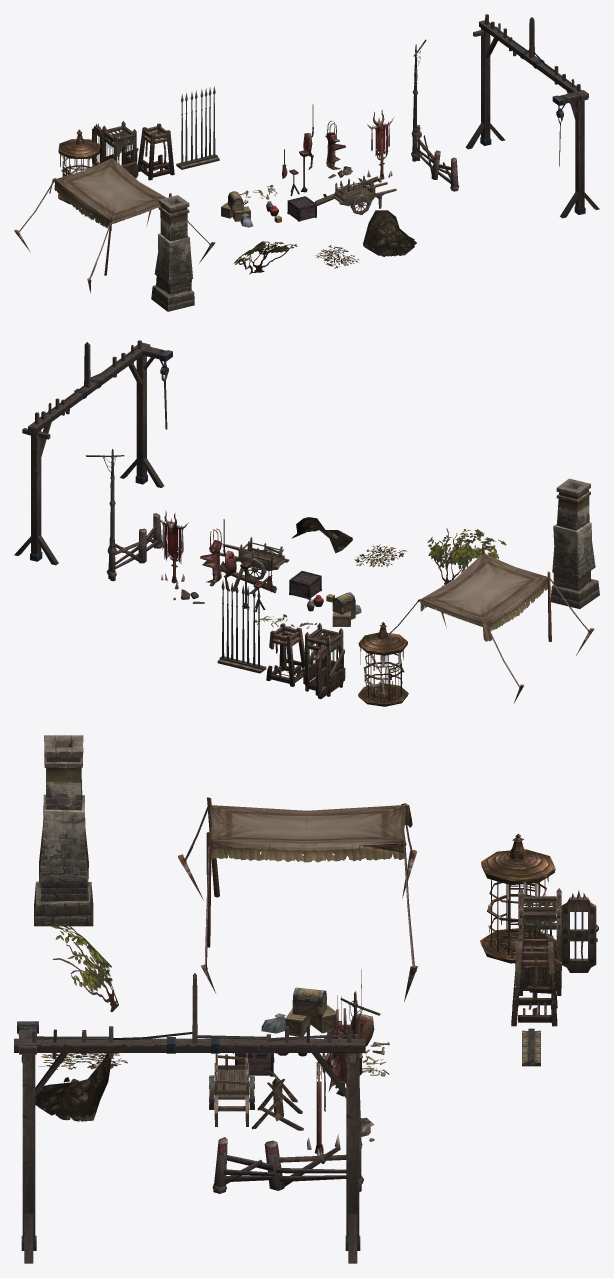
The model's file is 2_GLC_YWZW_01.FBX.
3 renders of one model, top to bottom at view 1: azimuth 30°, elevation 25°; view 2: azimuth 150°, elevation 25°; view 3: azimuth 270°, elevation 25°, orthographic. The views are drawn at different scales.
Parts seen in each view (by area): view 1: 2_GLC_JiaZi_01, 2_GLC_YEPZ_01, 2_GLC_YanTong_01, 2_GLC_SuiShiDui_02, 2_GLC_YWPJ_01, 2_GLC_Mao_01, 2_GLC_MuZhaLan_03, 2_GLC_MuLaoLong_01, 2_GLC_YuanTieLong_01, 2_DLC_MuLaoChe_01, 2_GLC_QiZhi_01, 2_GLC_YWGM_01 (+4 smaller); view 2: 2_GLC_YEPZ_01, 2_GLC_JiaZi_01, 2_GLC_YanTong_01, 2_GLC_YuanTieLong_01, 2_GLC_YWPJ_01, 2_GLC_MuZhaLan_03, 2_GLC_Mao_01, 2_GLC_YWGM_01, 2_GLC_MuLaoLong_01, 2_DLC_MuLaoChe_01, 2_GLC_QiZhi_01, 2_GLC_SuiShiDui_02 (+4 smaller); view 3: 2_GLC_JiaZi_01, 2_GLC_YEPZ_01, 2_GLC_YanTong_01, 2_GLC_YWPJ_01, 2_GLC_YuanTieLong_01, 2_GLC_MuZhaLan_03, 2_GLC_MuLaoLong_01, 2_GLC_SuiShiDui_02, 2_GLC_YWMXZ_01, 2_DLC_MuLaoChe_01, 2_GLC_YWGM_01, 2_GLC_MuZhanLan_01 (+3 smaller).
Boxes of the visible parts, bbox=[...] form: 2_GLC_JiaZi_01: bbox=[465, 14, 599, 218]; 2_GLC_YEPZ_01: bbox=[14, 157, 215, 293]; 2_GLC_YanTong_01: bbox=[151, 195, 194, 311]; 2_GLC_SuiShiDui_02: bbox=[363, 210, 416, 256]; 2_GLC_YWPJ_01: bbox=[91, 121, 138, 178]; 2_GLC_Mao_01: bbox=[176, 86, 219, 169]; 2_GLC_MuZhaLan_03: bbox=[411, 39, 459, 191]; 2_GLC_MuLaoLong_01: bbox=[138, 123, 174, 180]; 2_GLC_YuanTieLong_01: bbox=[58, 129, 100, 204]; 2_DLC_MuLaoChe_01: bbox=[330, 175, 396, 214]; 2_GLC_QiZhi_01: bbox=[367, 109, 393, 182]; 2_GLC_YWGM_01: bbox=[233, 241, 297, 274]; 2_GLC_YEPZ_01: bbox=[369, 546, 594, 702]; 2_GLC_JiaZi_01: bbox=[14, 340, 172, 565]; 2_GLC_YanTong_01: bbox=[550, 478, 599, 608]; 2_GLC_YuanTieLong_01: bbox=[358, 622, 408, 706]; 2_GLC_YWPJ_01: bbox=[303, 623, 345, 698]; 2_GLC_MuZhaLan_03: bbox=[85, 449, 162, 581]; 2_GLC_Mao_01: bbox=[217, 580, 266, 673]; 2_GLC_YWGM_01: bbox=[427, 528, 506, 586]; 2_GLC_MuLaoLong_01: bbox=[266, 623, 304, 686]; 2_DLC_MuLaoChe_01: bbox=[220, 537, 289, 579]; 2_GLC_QiZhi_01: bbox=[157, 510, 188, 589]; 2_GLC_SuiShiDui_02: bbox=[291, 517, 352, 553]; 2_GLC_JiaZi_01: bbox=[14, 973, 365, 1263]; 2_GLC_YEPZ_01: bbox=[178, 797, 417, 1002]; 2_GLC_YanTong_01: bbox=[34, 735, 93, 926]; 2_GLC_YWPJ_01: bbox=[515, 888, 598, 995]; 2_GLC_YuanTieLong_01: bbox=[480, 833, 555, 963]; 2_GLC_MuZhaLan_03: bbox=[212, 991, 380, 1193]; 2_GLC_MuLaoLong_01: bbox=[511, 935, 557, 1026]; 2_GLC_SuiShiDui_02: bbox=[35, 1053, 111, 1121]; 2_GLC_YWMXZ_01: bbox=[261, 987, 335, 1036]; 2_DLC_MuLaoChe_01: bbox=[209, 1053, 254, 1126]; 2_GLC_YWGM_01: bbox=[43, 922, 118, 1011]; 2_GLC_MuZhanLan_01: bbox=[251, 1069, 303, 1130].
Bounding box in the file's own units: 3484 × 1243 × 2180.
